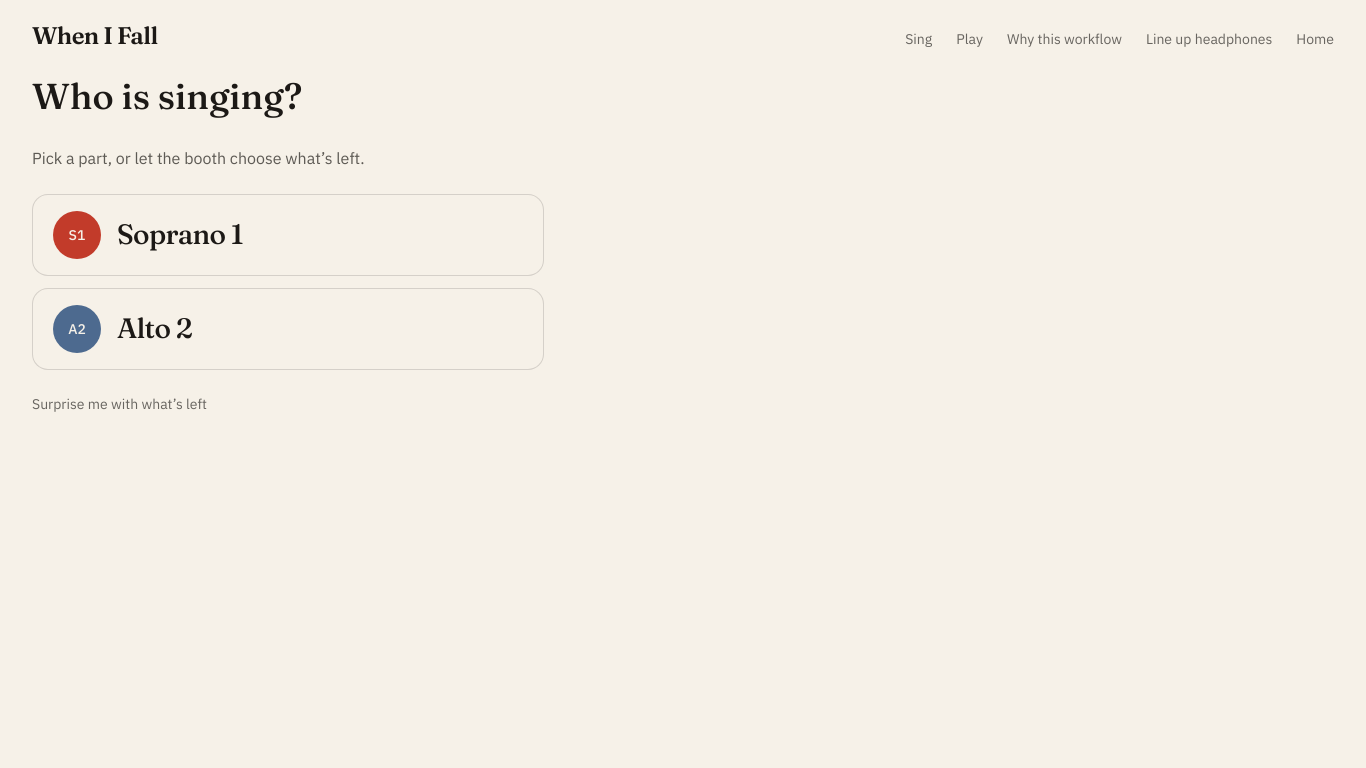
SingPage booth flow › Next persists progress and advances through every phrase, not just the first two
Click the button "S1 Soprano 1". click: x=77, y=234
box: [32, 194, 544, 276]
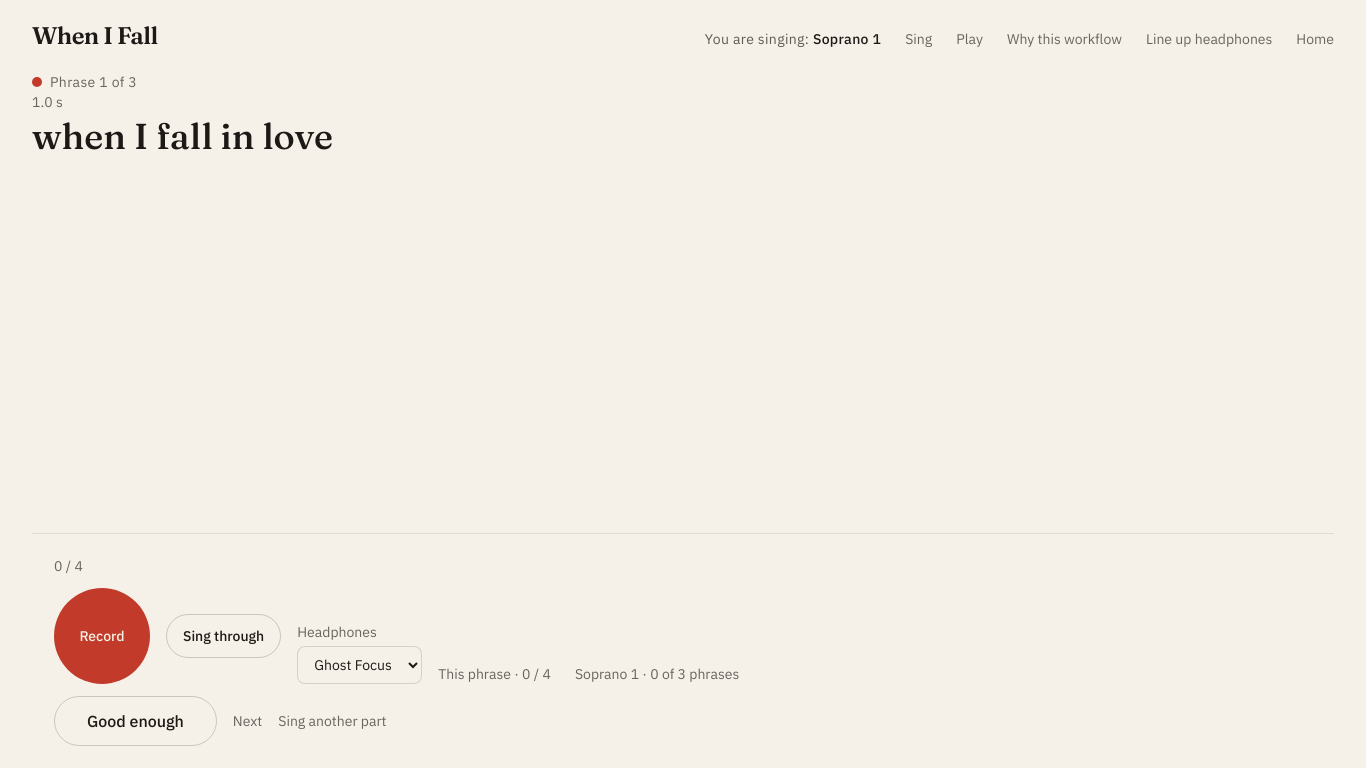
Check: the text "when I fall in love" is shown, box [32, 114, 333, 158]
Check: the text "Phrase 1 of 3" is shown, box [32, 73, 137, 91]
Click the button "Next". click: x=248, y=721
box: [233, 711, 262, 731]
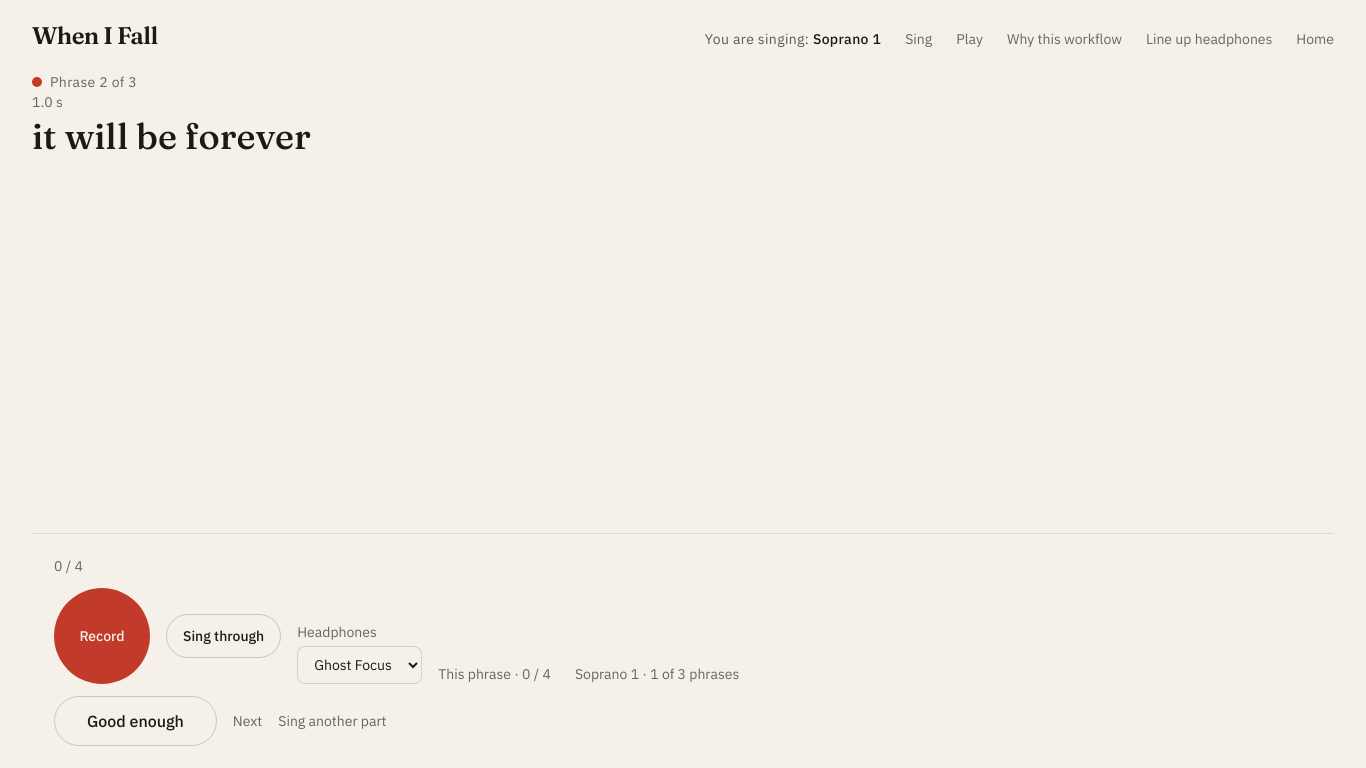
Check: the text "it will be forever" is shown, box [32, 114, 311, 158]
Check: the text "Phrase 2 of 3" is shown, box [32, 73, 137, 91]
Click the button "Next". click: x=248, y=721
box: [233, 711, 262, 731]
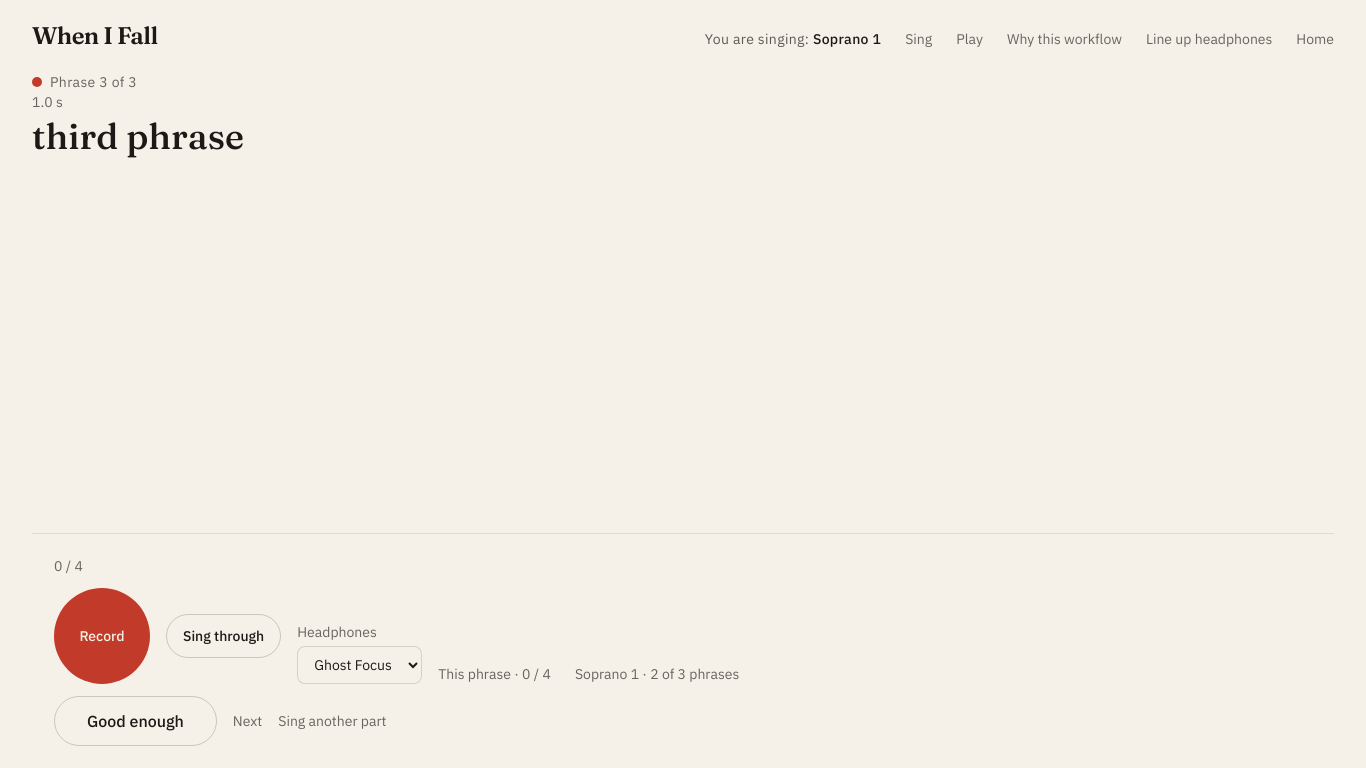
Check: the text "third phrase" is shown, box [32, 114, 244, 158]
Check: the text "Phrase 3 of 3" is shown, box [32, 73, 137, 91]
Click the button "Next". click: x=248, y=721
box: [233, 711, 262, 731]
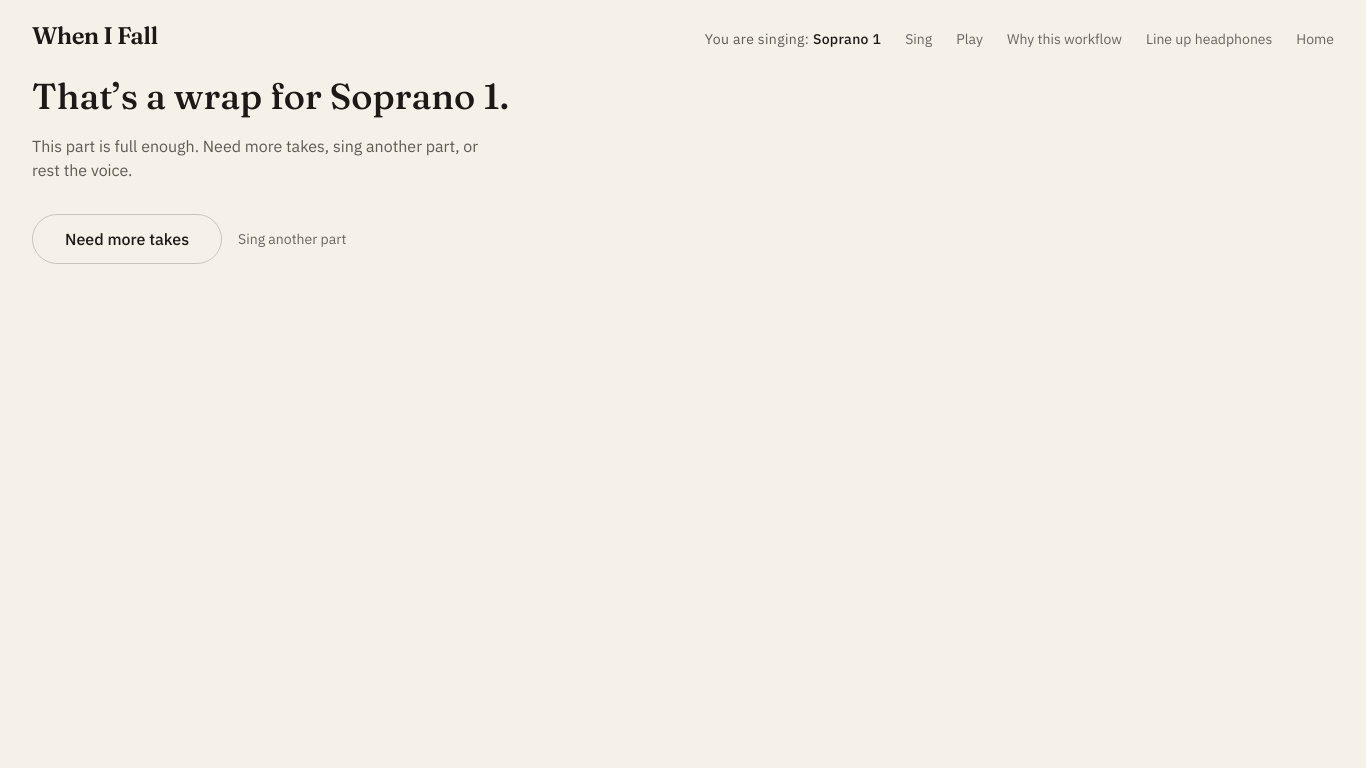
Check: the text "That’s a wrap for Soprano 1." is shown, box [32, 74, 509, 118]
